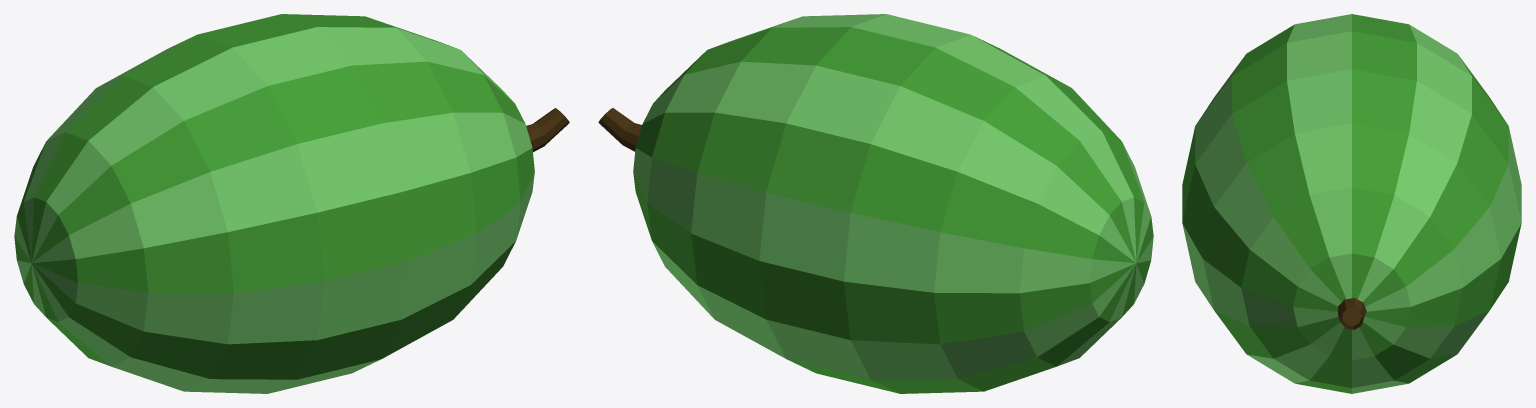
Rendered from Watermellon.fbx.
The picture shows the model from 3 angles, left to right: view 1: azimuth 30°, elevation 25°; view 2: azimuth 150°, elevation 25°; view 3: azimuth 270°, elevation 25°; orthographic projection. The views are drawn at different scales.
Parts seen in each view (by area): view 1: Sphere.003; view 2: Sphere.003; view 3: Sphere.003.
Part boxes in pixels (left/top/right/bottom): Sphere.003: left=14, top=14, right=569, bottom=393; Sphere.003: left=598, top=14, right=1153, bottom=393; Sphere.003: left=1182, top=14, right=1521, bottom=393.
Size of the model in its own units: 76.9 by 45.69 by 45.69.
